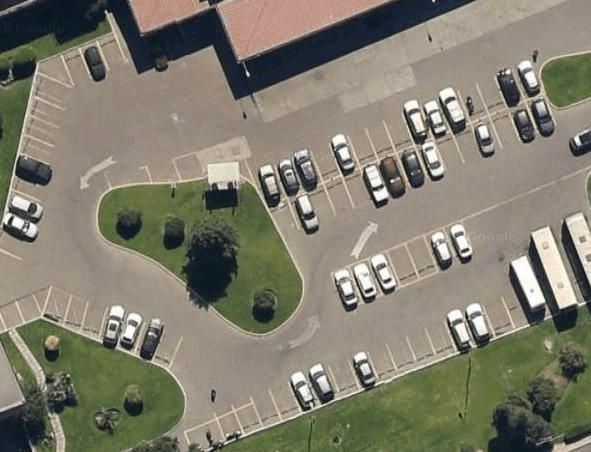parkingspot: (211, 287, 534, 445), (246, 51, 546, 211), (263, 92, 559, 240), (329, 218, 479, 312), (0, 70, 74, 260), (41, 283, 186, 372), (59, 30, 130, 89), (0, 291, 44, 332), (103, 164, 153, 189)
